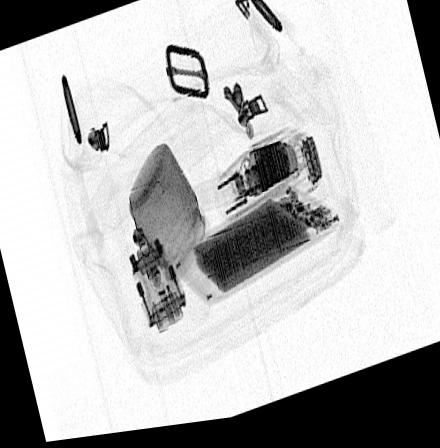Powerbank: (169, 190, 341, 315)
